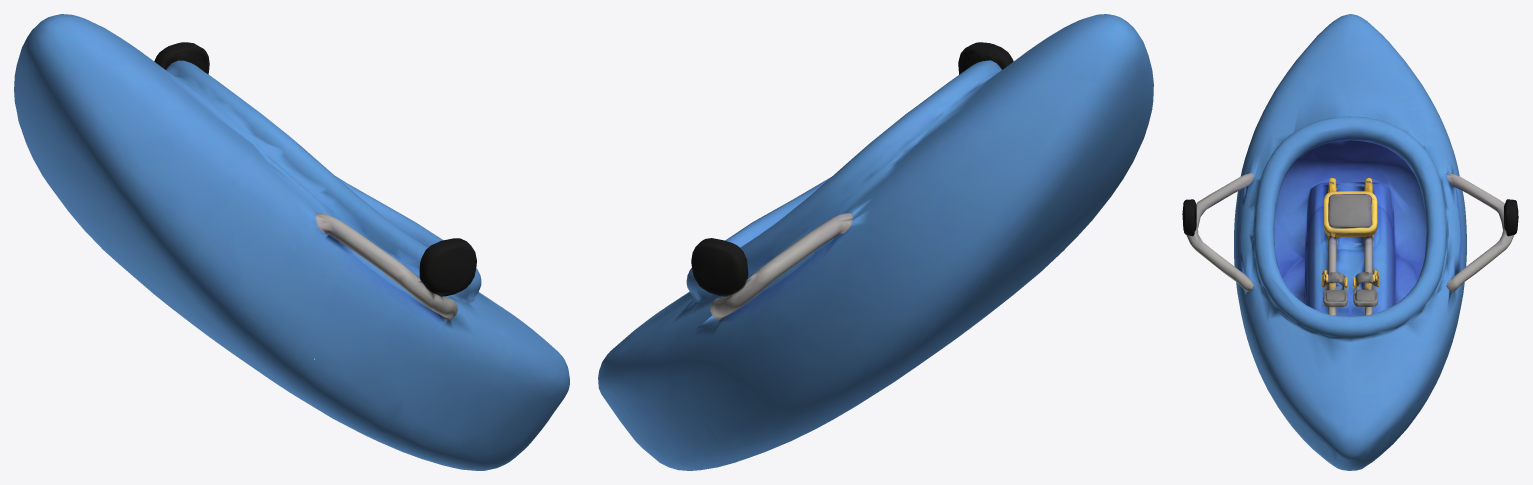
Rendered from boat-blue.glb.
The picture shows the model from 3 angles, left to right: view 1: azimuth 30°, elevation 25°; view 2: azimuth 150°, elevation 25°; view 3: azimuth 270°, elevation 25°; orthographic projection. The views are drawn at different scales.
Visible parts, largest first — view 1: tripo_node_ad749f03-c008-4c8a-8557-9f47de6ac11d; view 2: tripo_node_ad749f03-c008-4c8a-8557-9f47de6ac11d; view 3: tripo_node_ad749f03-c008-4c8a-8557-9f47de6ac11d.
Part boxes in pixels (x1,y1,x2,y2): tripo_node_ad749f03-c008-4c8a-8557-9f47de6ac11d: (14, 14, 569, 470); tripo_node_ad749f03-c008-4c8a-8557-9f47de6ac11d: (598, 14, 1153, 470); tripo_node_ad749f03-c008-4c8a-8557-9f47de6ac11d: (1182, 14, 1518, 470).
Bounding box in the file's own units: 0.98 × 0.9603 × 0.8952.
Materials: 1 (1 with a texture image).
